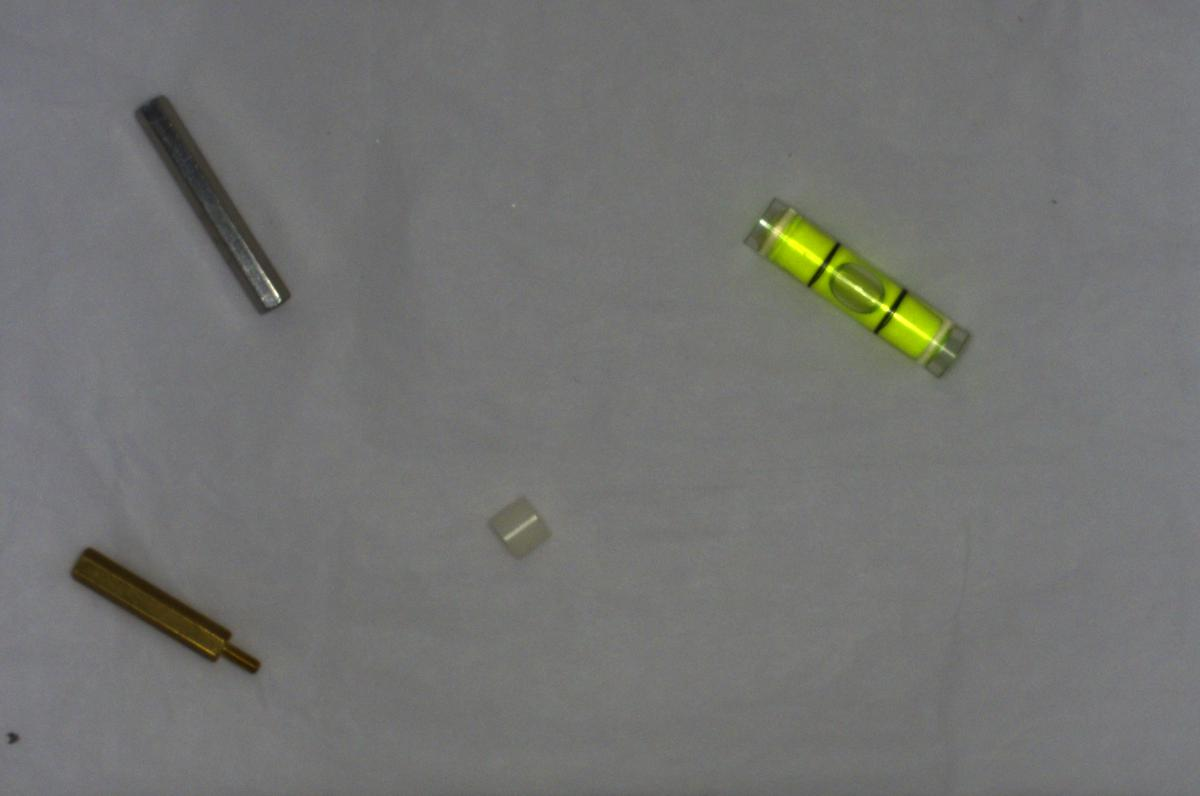Hexagon pillar: (59, 535, 271, 683)
Hexagonal steel column: (127, 83, 307, 323)
Horizontal bubble: (735, 181, 984, 390)
Plastic cushion pillar: (479, 488, 559, 561)
